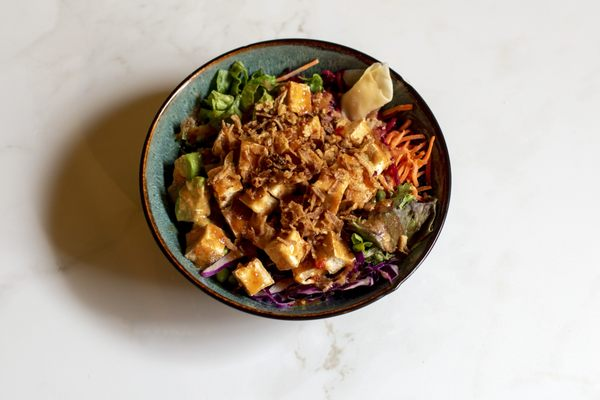sushi: (140, 48, 452, 319)
